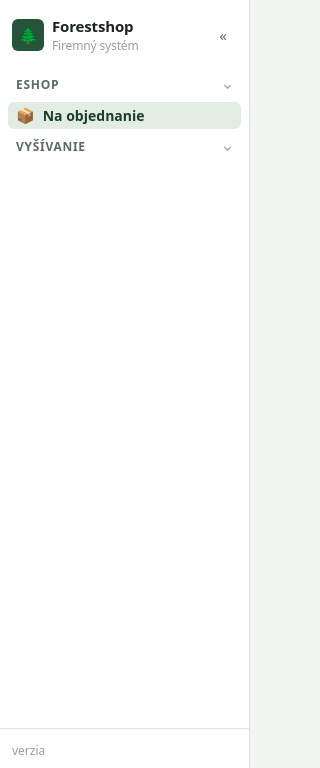
Test: prázdny priečinok (tabs: []) vykreslí zbaliteľnú hlavičku bez záložiek
The image size is (320, 768).
Note: Klik hlavičku zbalí — rovnaké zbaliteľné správanie ako naplnené priečinky.
Step 1. Click the button "Vyšívanie ⌄" → (124, 148), box left=8, top=135, right=241, bottom=160
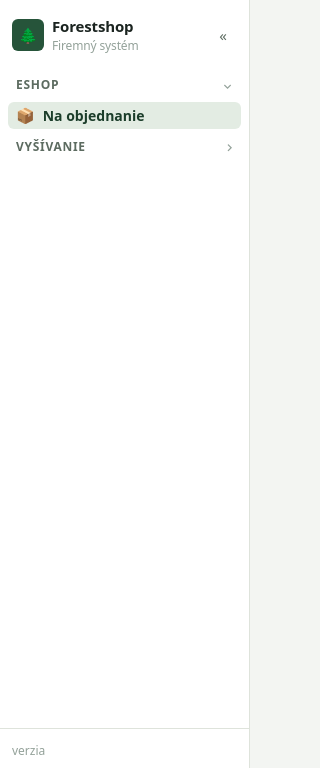
Result: the button "Vyšívanie ⌄" is collapsed at left=8, top=135, right=241, bottom=160
